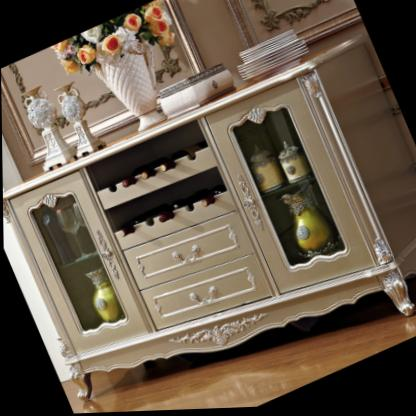Cupboard: (2, 19, 416, 401)
Wooden floor: (61, 300, 416, 414)
